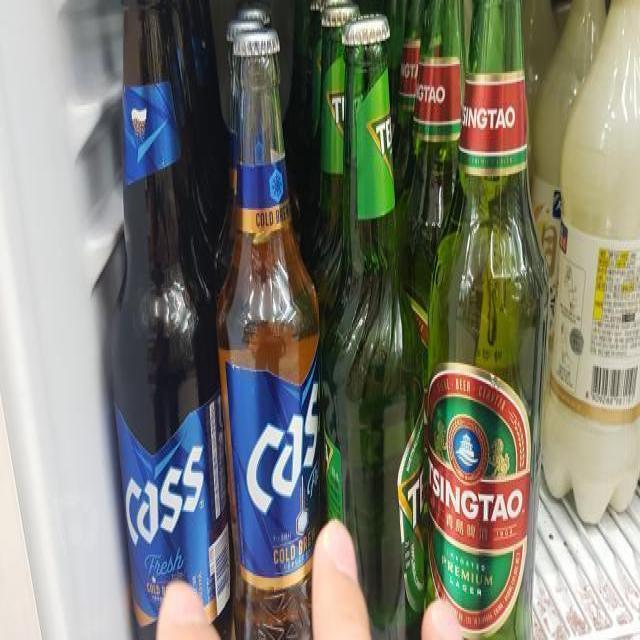beer-bottle: (102, 5, 235, 640), (422, 0, 548, 640), (212, 26, 324, 640), (320, 9, 428, 640), (402, 0, 469, 430), (156, 0, 226, 338), (318, 4, 367, 366), (283, 0, 336, 299), (175, 0, 233, 238), (393, 0, 427, 277)
